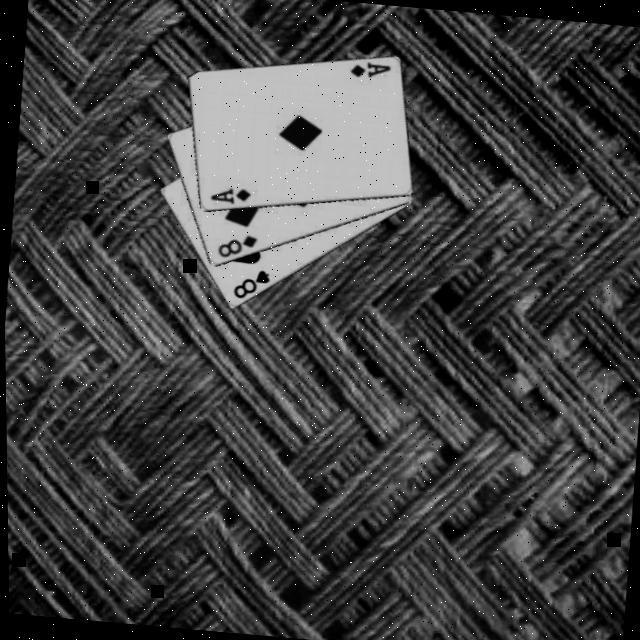8D: (214, 228, 260, 262)
8S: (230, 264, 273, 303)
AD: (206, 182, 254, 207), (346, 57, 394, 82)
